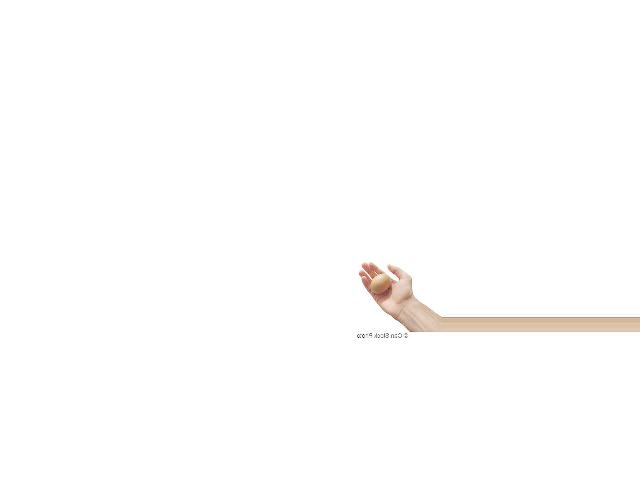egg: (369, 274, 388, 293)
